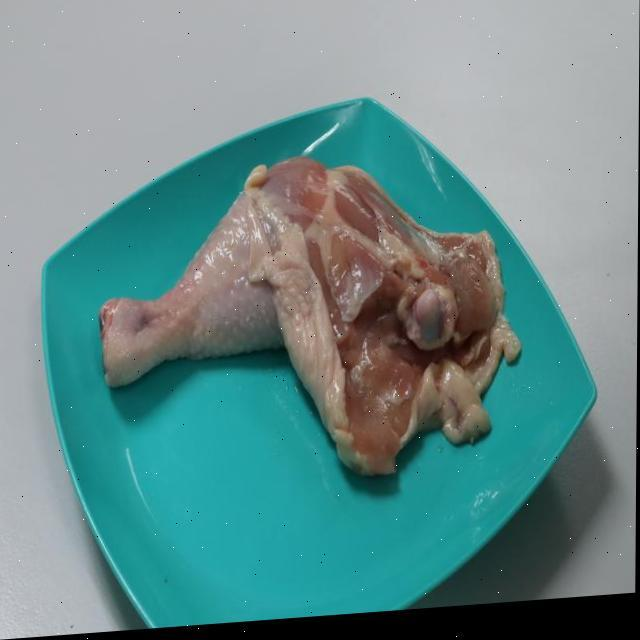quater: (90, 145, 504, 489)
